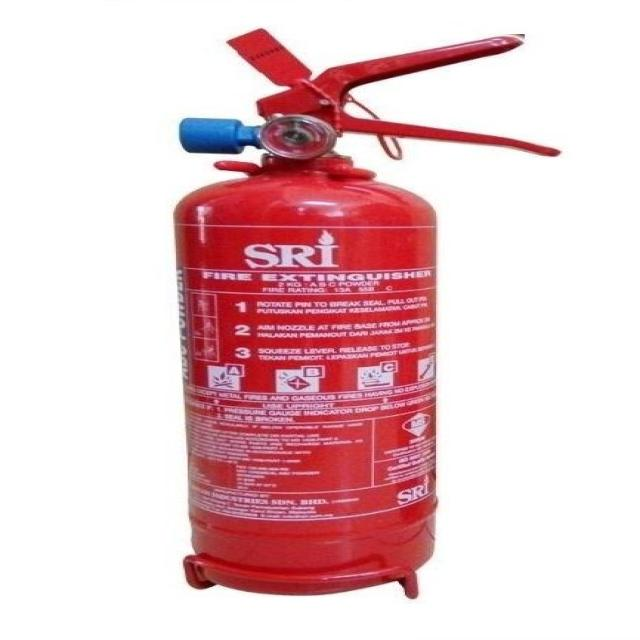fire_extinguisher: (162, 20, 568, 600)
